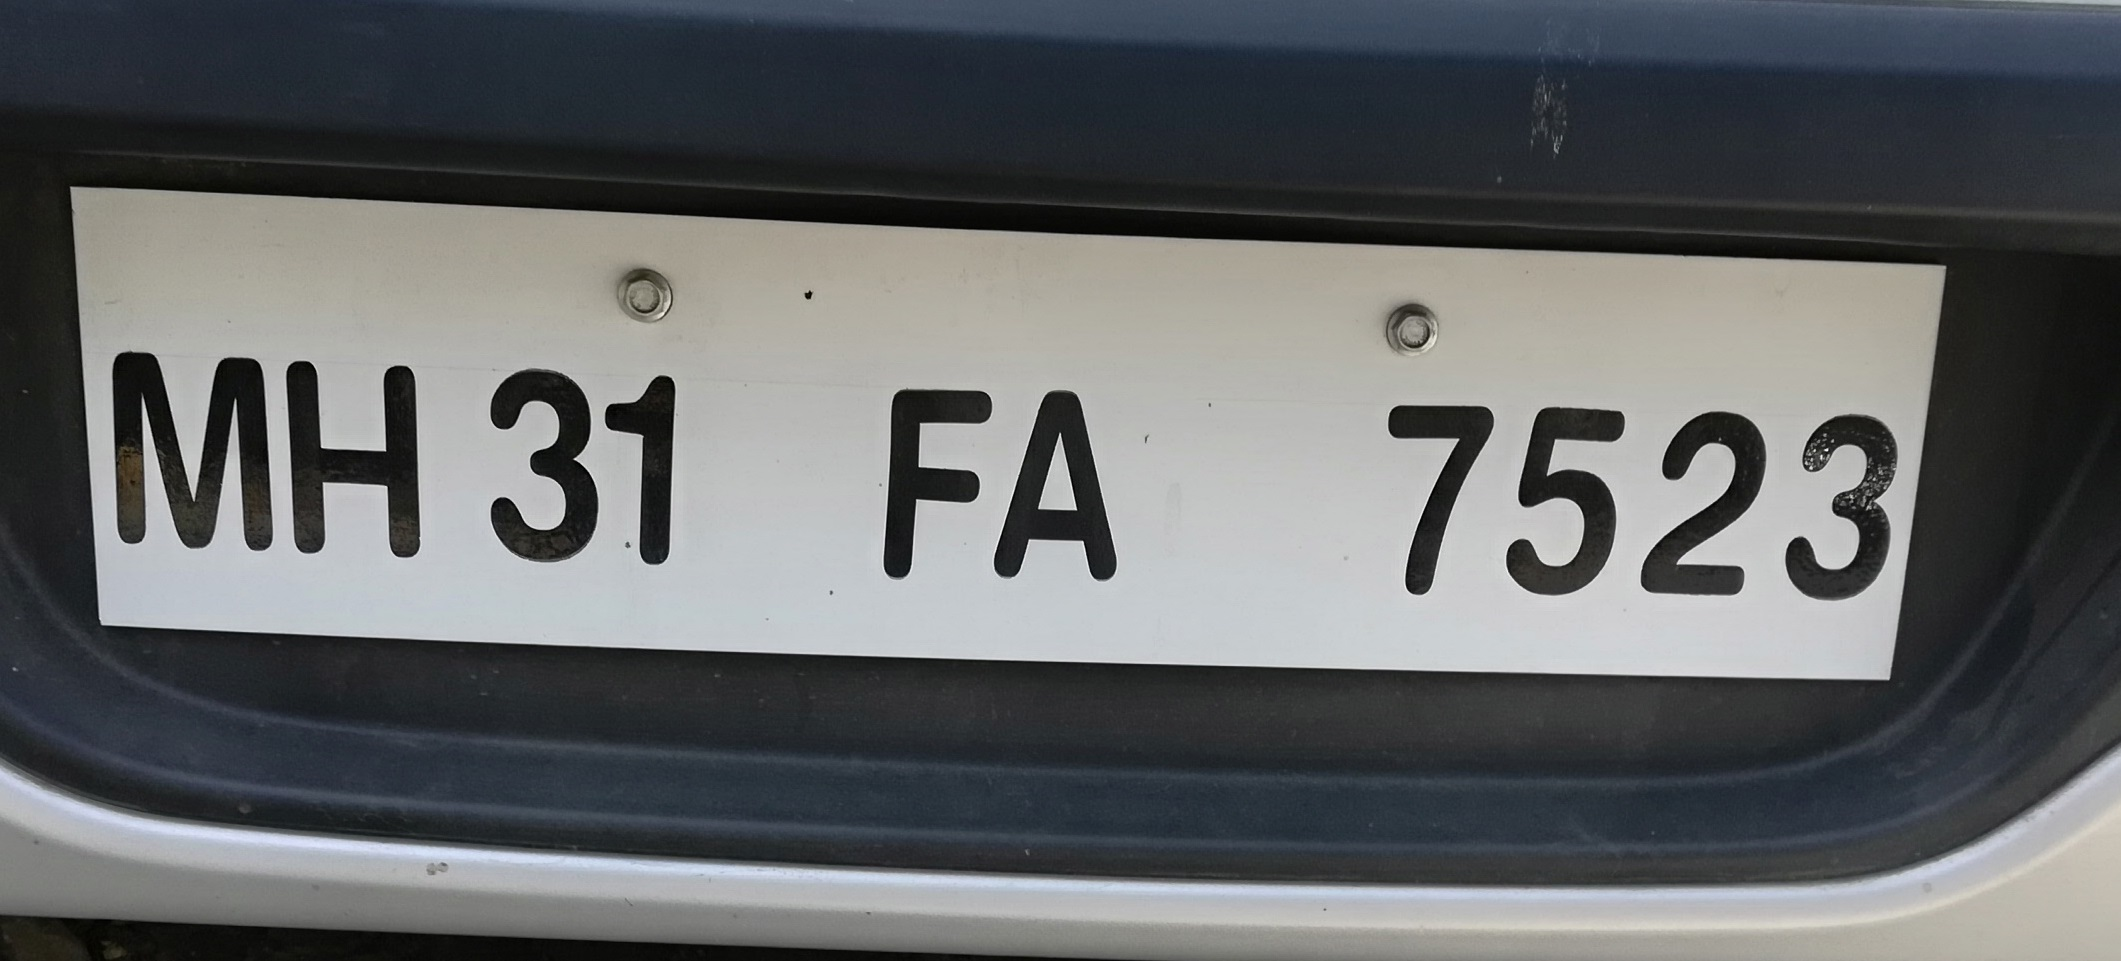numberplate: (60, 174, 1951, 695)
